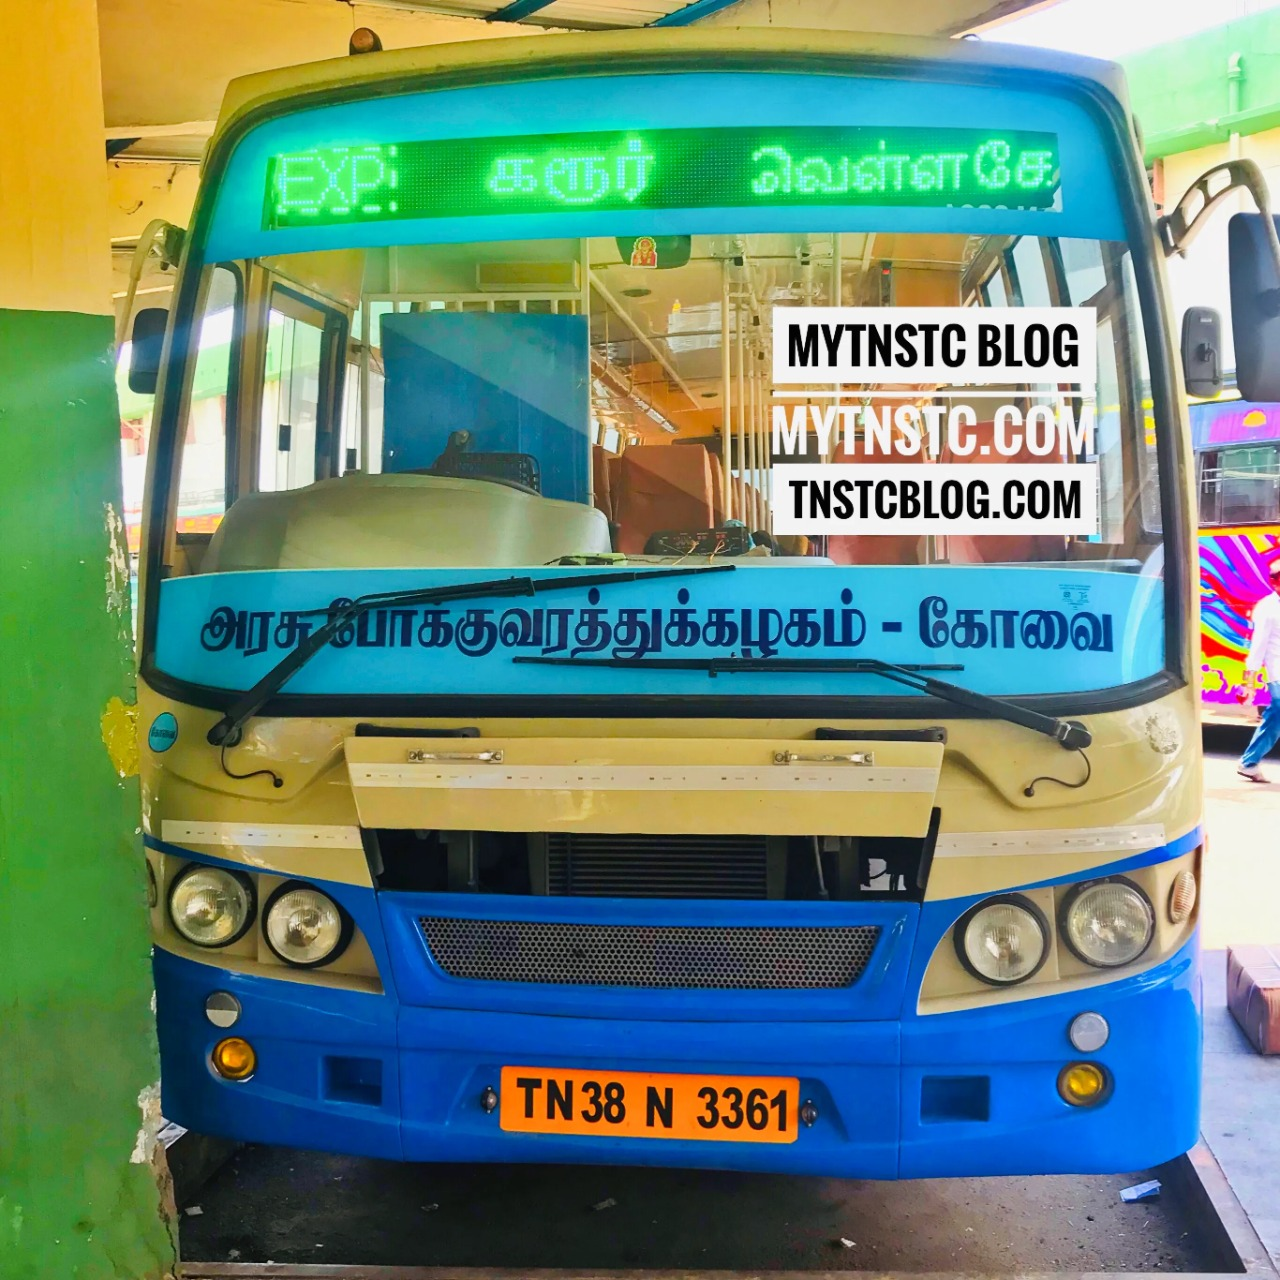bus: (139, 27, 1224, 1231)
numberplate: (490, 1052, 825, 1167)
